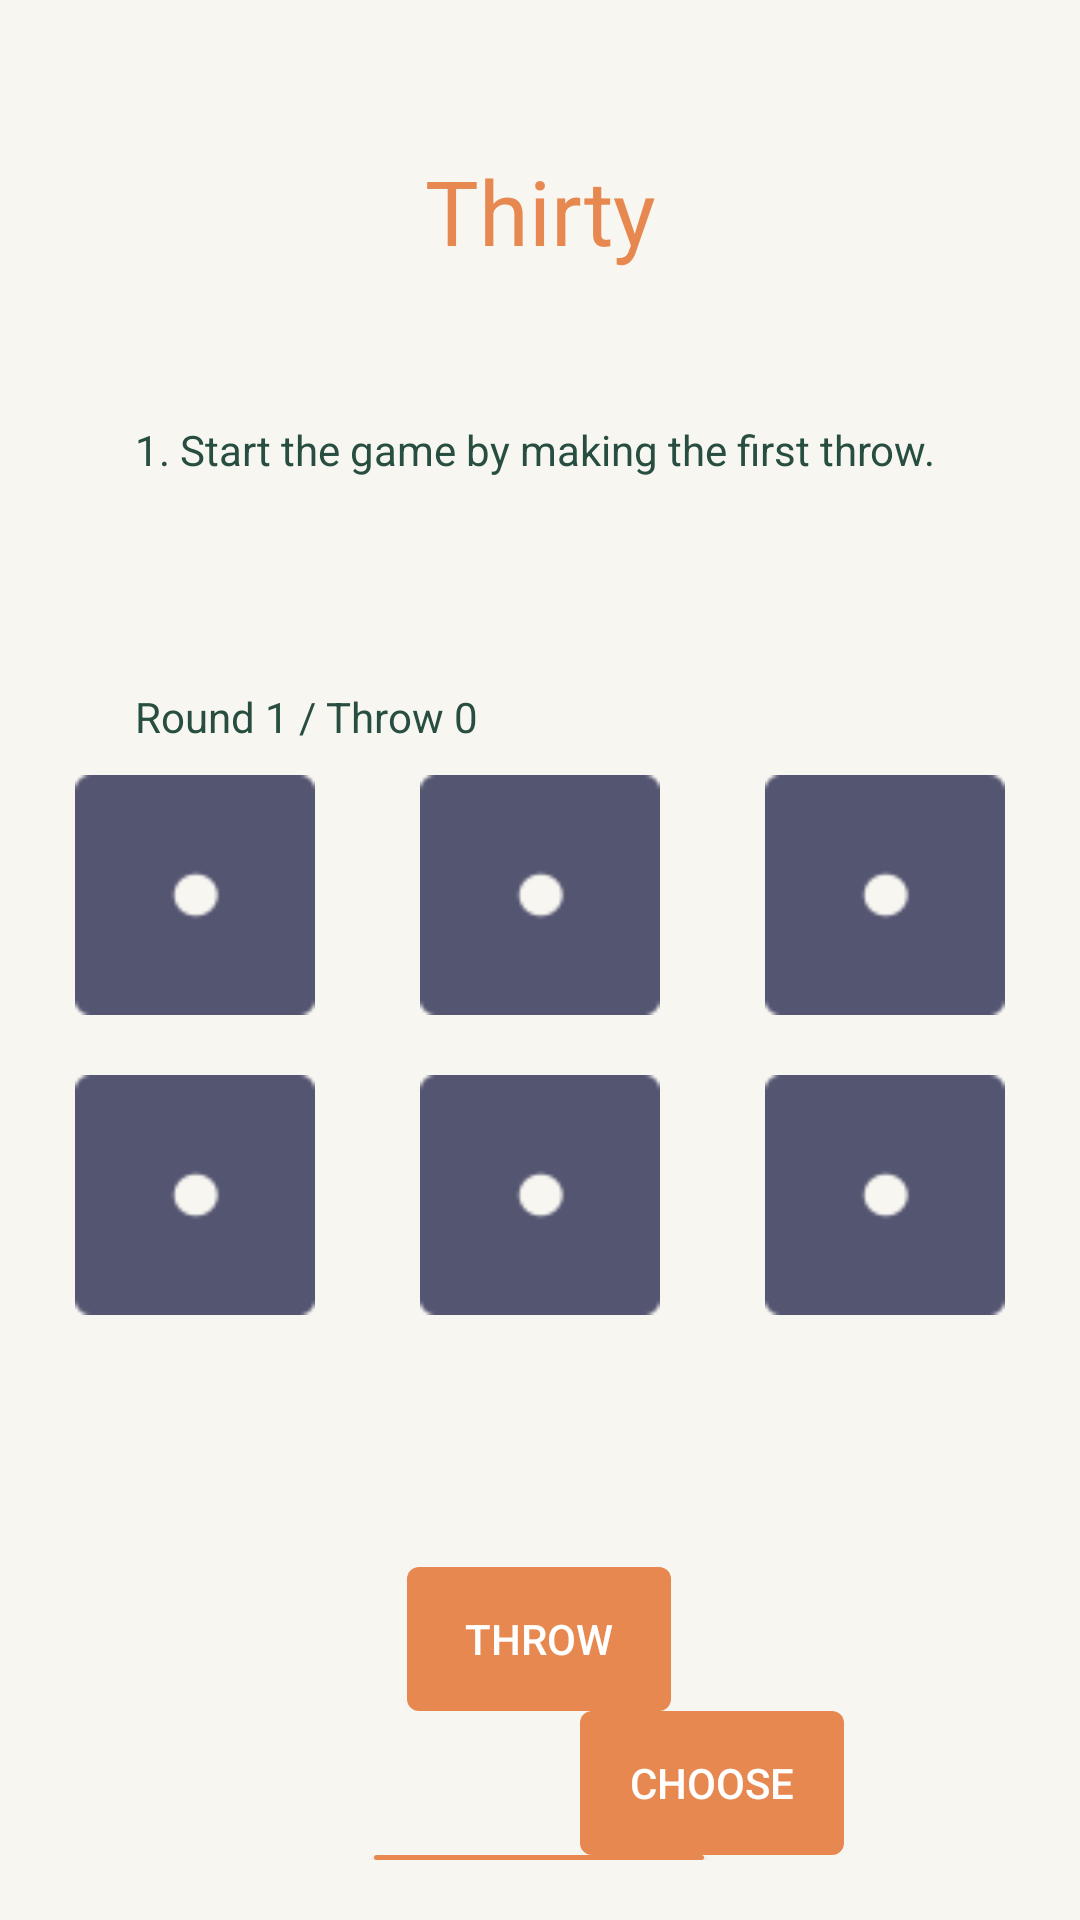

Icons on this 1080w x 1920h Android screen, each with its box as (x1, y1, x2, y2):
Dice1: (75, 775, 315, 1015)
Dice2: (420, 775, 660, 1015)
Dice3: (765, 775, 1005, 1015)
Dice4: (75, 1075, 315, 1315)
Dice5: (420, 1075, 660, 1315)
Dice6: (765, 1075, 1005, 1315)
